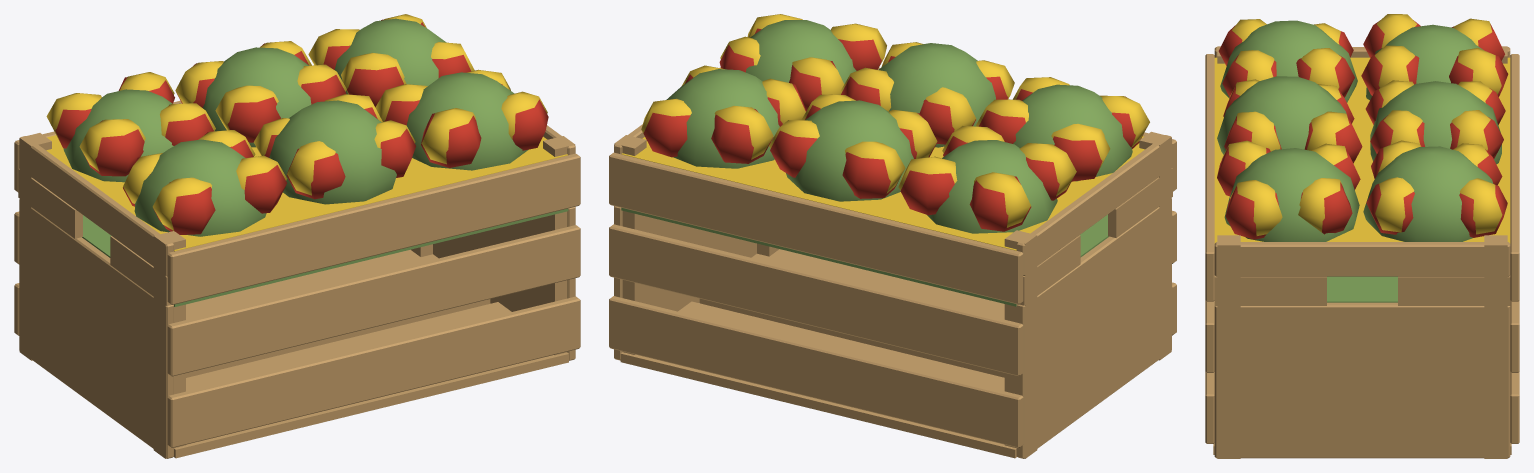
File: crate_produce.glb
3 views of the same model, side by side, from view 1: azimuth 30°, elevation 25°; view 2: azimuth 150°, elevation 25°; view 3: azimuth 270°, elevation 25° (orthographic).
Visible parts, largest first — view 1: crate_produce, produce_cabbage, produce_lemon, produce_tomato; view 2: crate_produce, produce_cabbage, produce_lemon, produce_tomato; view 3: crate_produce, produce_cabbage, produce_lemon, produce_tomato.
Part boxes in pixels (bbox=[...]): crate_produce: bbox=[14, 100, 580, 458]; produce_cabbage: bbox=[63, 18, 568, 306]; produce_lemon: bbox=[46, 14, 567, 251]; produce_tomato: bbox=[55, 19, 548, 234]; crate_produce: bbox=[609, 67, 1176, 458]; produce_cabbage: bbox=[621, 20, 1132, 306]; produce_lemon: bbox=[621, 14, 1149, 250]; produce_tomato: bbox=[643, 28, 1143, 231]; crate_produce: bbox=[1205, 46, 1519, 458]; produce_cabbage: bbox=[1217, 20, 1501, 302]; produce_lemon: bbox=[1214, 14, 1510, 243]; produce_tomato: bbox=[1217, 20, 1508, 239].
Size of the model in its own units: 0.6 by 0.3871 by 0.4.
